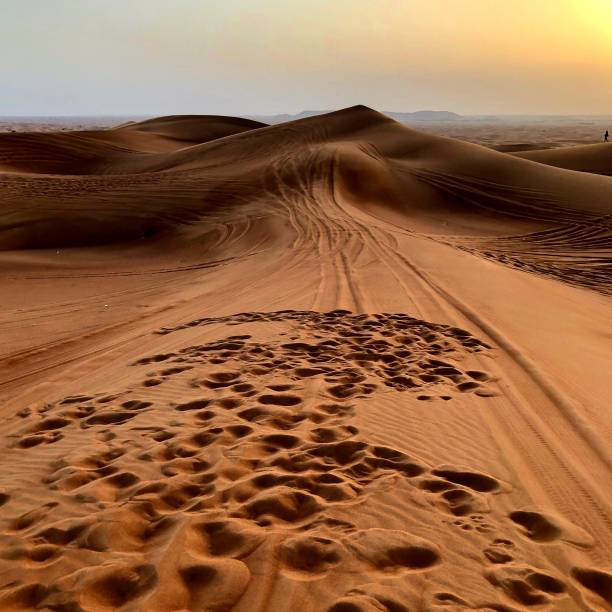human_foot_print: (0, 311, 567, 609), (322, 184, 607, 530), (0, 215, 315, 395), (301, 189, 365, 313)
